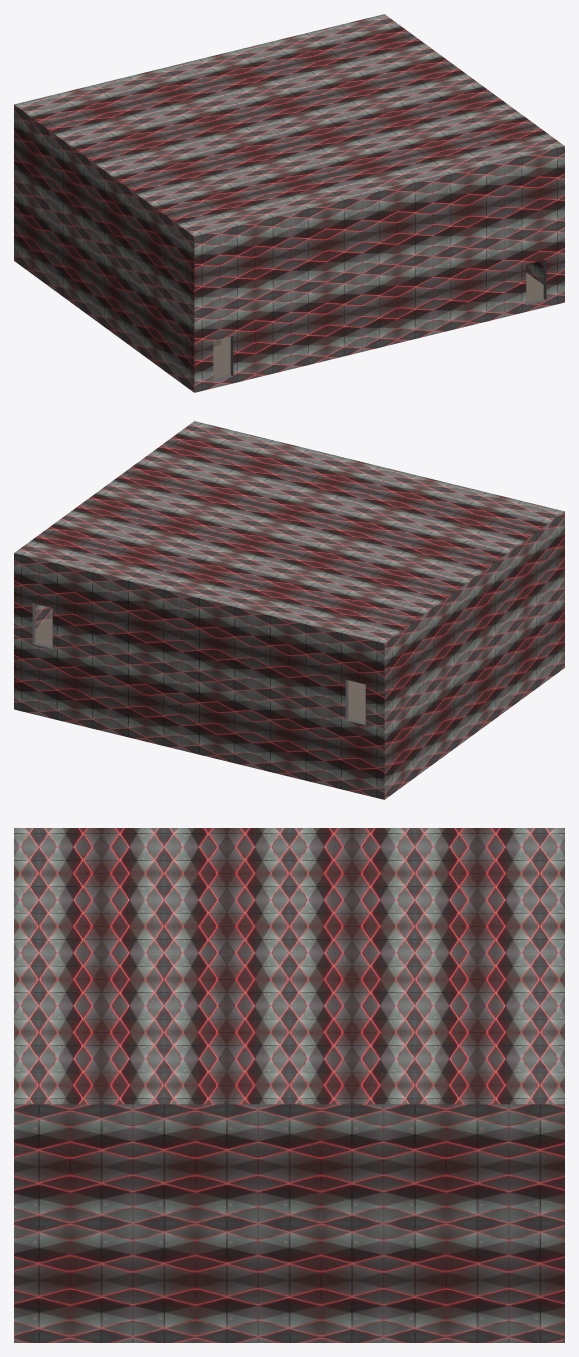
Rendered from CinemaHall05.FBX.
3 views of the same model, one above another, from view 1: azimuth 30°, elevation 25°; view 2: azimuth 150°, elevation 25°; view 3: azimuth 270°, elevation 25° (orthographic). The views are drawn at different scales.
Parts seen in each view (by area): view 1: Cinema05Wall, Cinema05FloorLight; view 2: Cinema05Wall, Cinema05FloorLight; view 3: Cinema05Wall.
Boxes of the visible parts, x1,y1,x2,y2 form: Cinema05Wall: (14, 14, 564, 392); Cinema05FloorLight: (213, 272, 543, 378); Cinema05Wall: (14, 421, 564, 799); Cinema05FloorLight: (35, 620, 365, 722); Cinema05Wall: (14, 828, 564, 1342).
Size of the model in its own units: 2095 by 845 by 1767.
